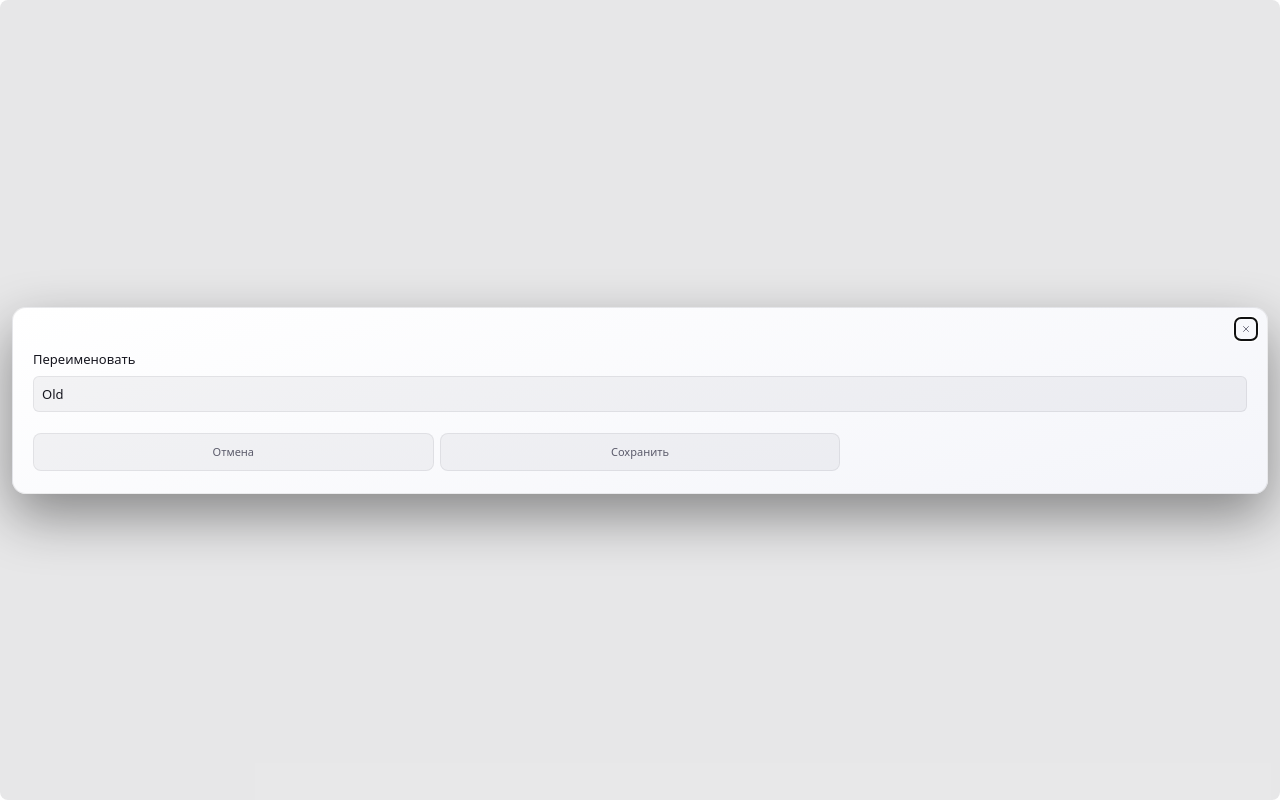
Test: PlanItemRenameDialog › keeps the draft when saving fails and allows retry
Click the button "Сохранить": coordinates (640, 452) [440,432,840,470]
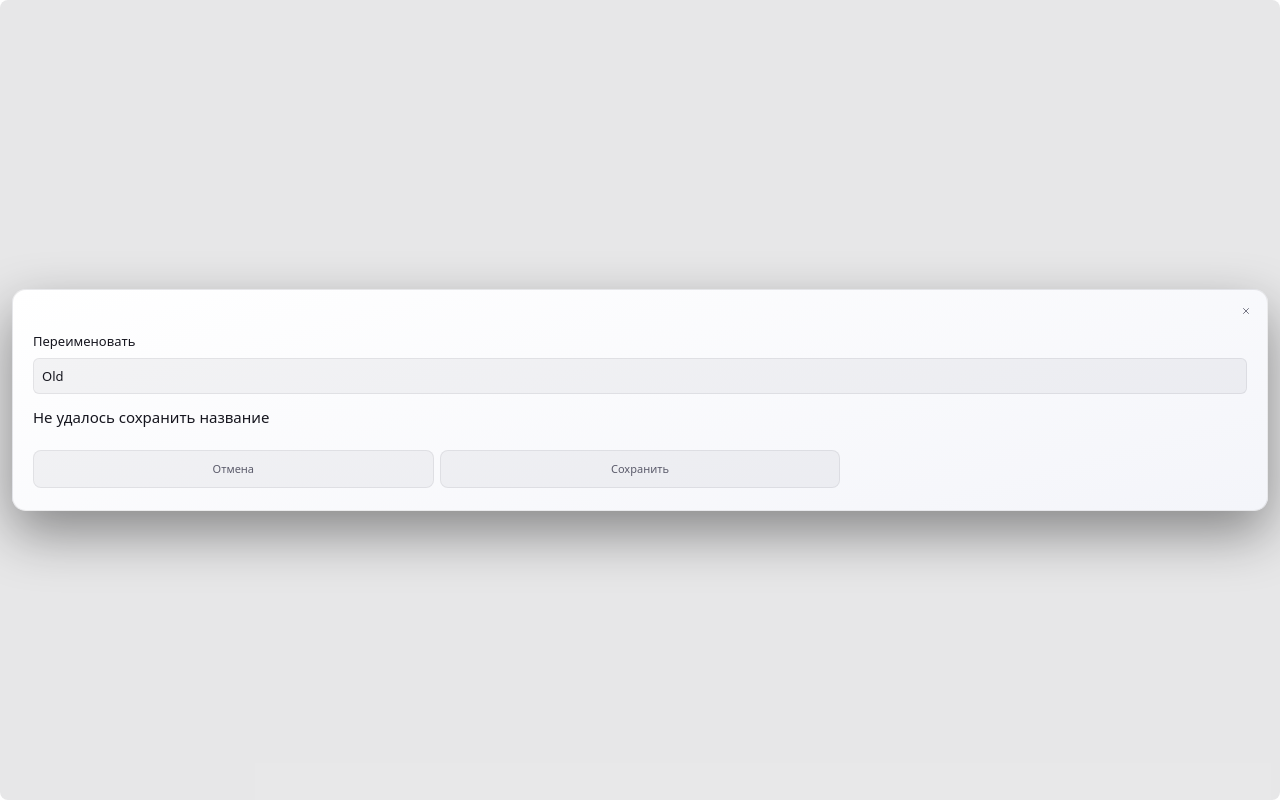
Expected: the field holds "Old", [33,358,1247,394]
Expected: the message "Не удалось сохранить название" is shown, [33,407,270,427]
